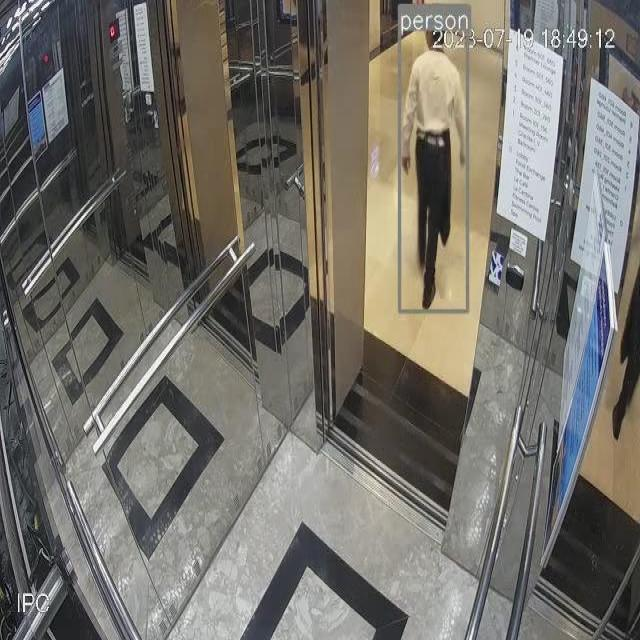person: (399, 15, 466, 308)
